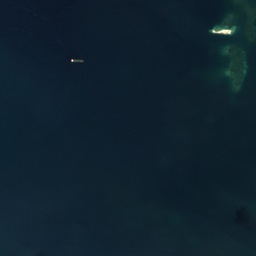Ship: (77, 59, 84, 63)
